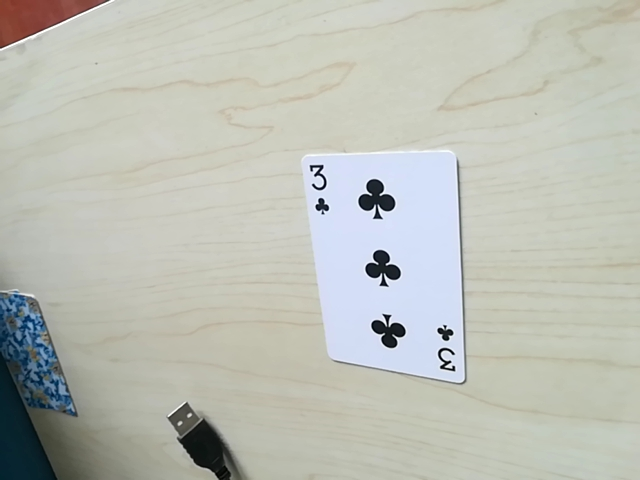mh 3: (303, 159, 337, 221), (431, 321, 461, 383)
